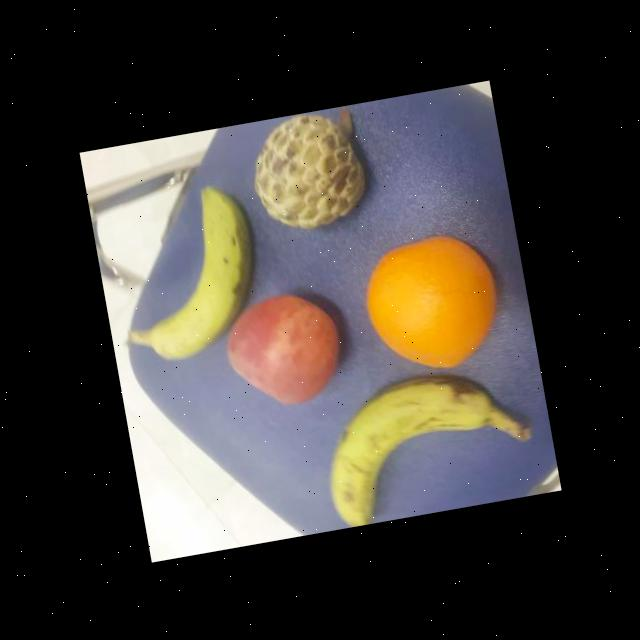Sakya fruit: (242, 103, 376, 240)
apple: (215, 283, 348, 417)
banana: (310, 363, 511, 528), (120, 176, 272, 366)
orange: (352, 224, 509, 382)
